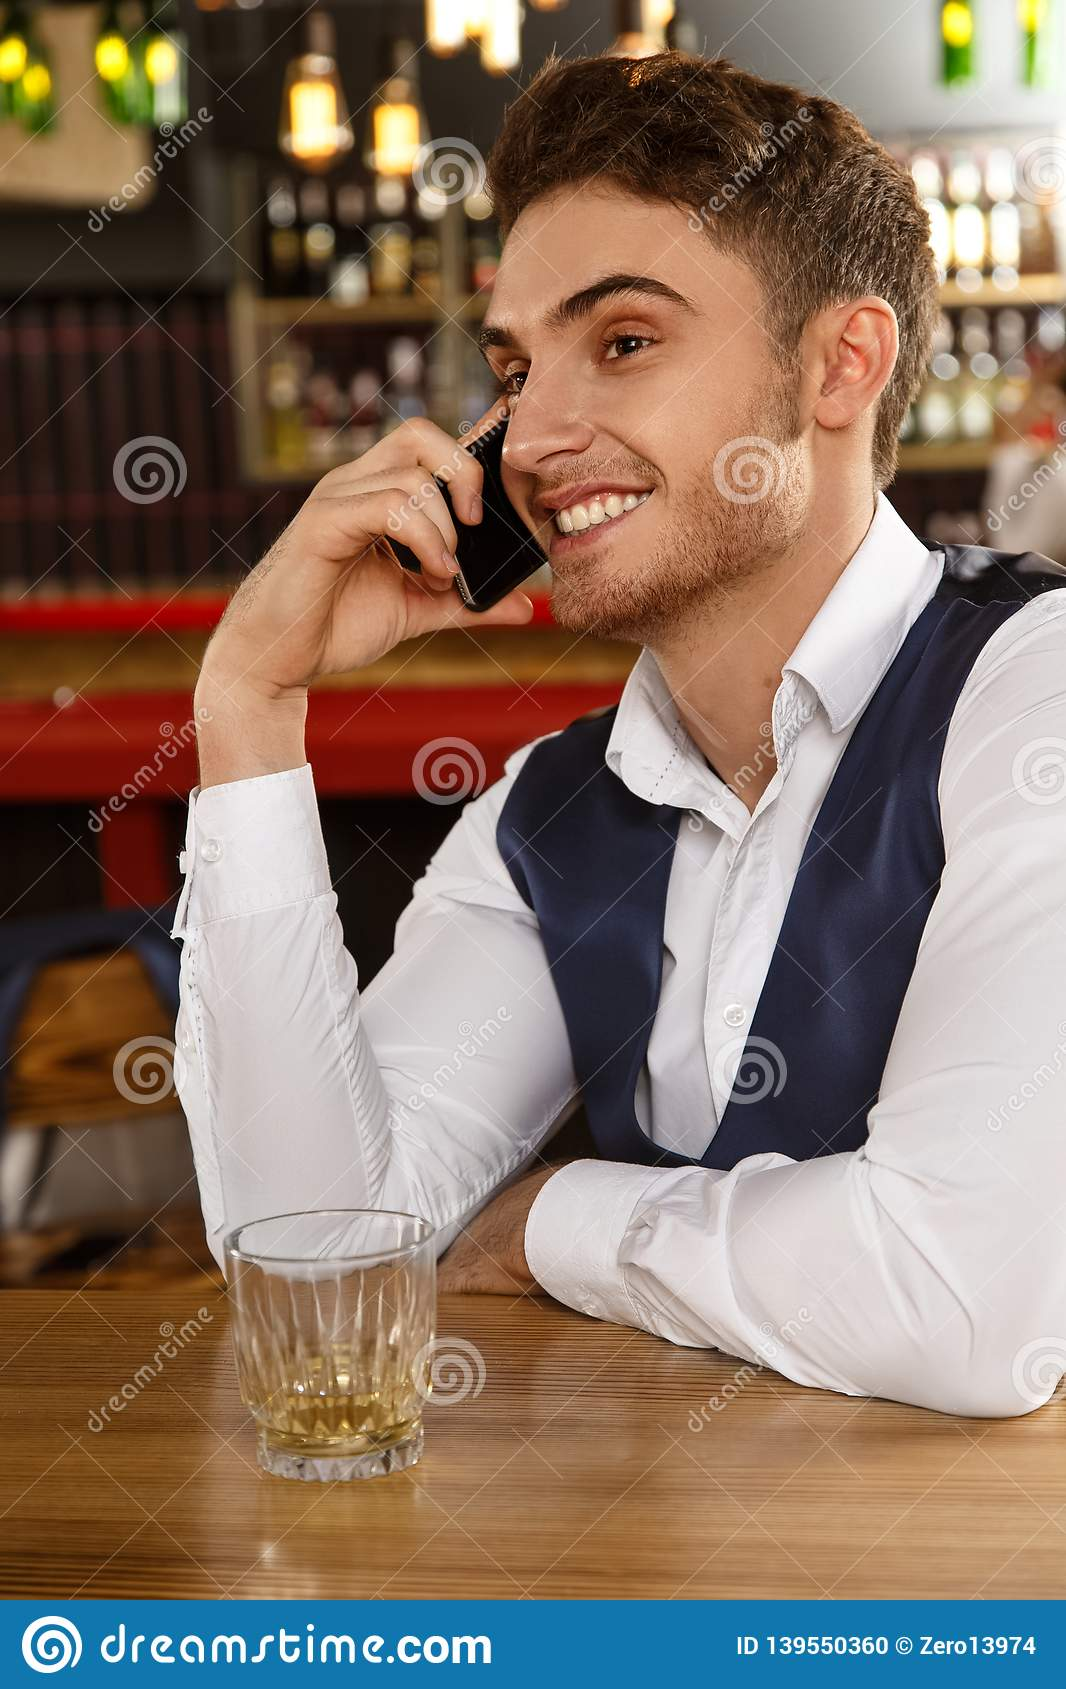phone: (440, 400, 540, 610)
talk: (211, 250, 734, 708)
